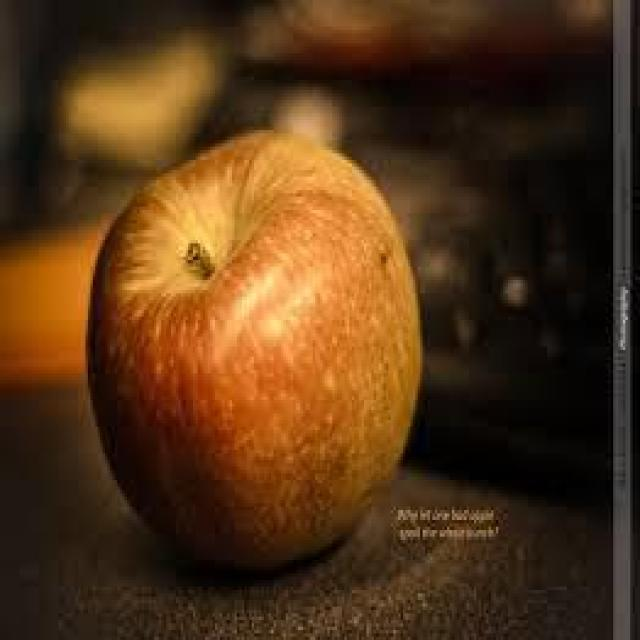maca: (83, 123, 423, 570)
